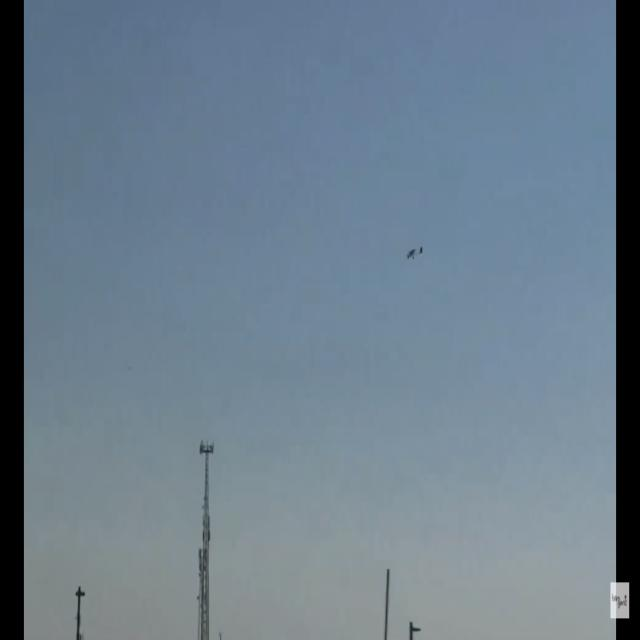iha: (404, 246, 423, 260)
